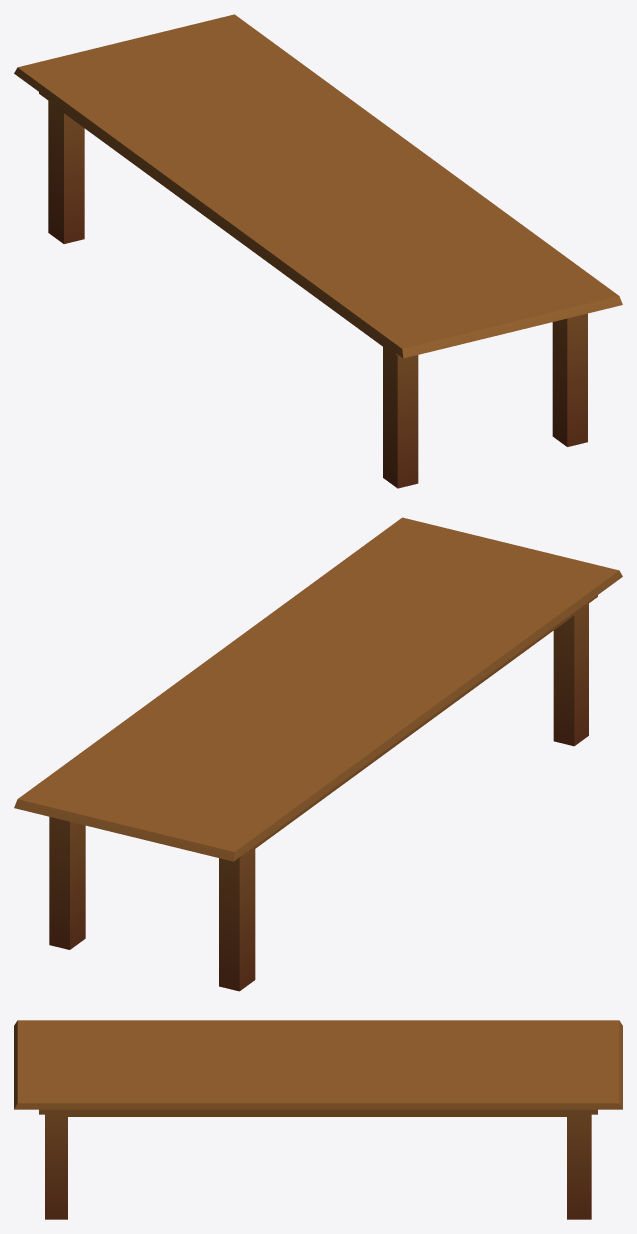
File: SM_Mesa.fbx
3 views of the same model, one above another, from view 1: azimuth 30°, elevation 25°; view 2: azimuth 150°, elevation 25°; view 3: azimuth 270°, elevation 25° (orthographic). The views are drawn at different scales.
Visible parts, largest first — view 1: Mesa; view 2: Mesa; view 3: Mesa.
Part boxes in pixels (bbox=[...]): Mesa: bbox=[14, 14, 622, 488]; Mesa: bbox=[14, 517, 622, 991]; Mesa: bbox=[14, 1020, 622, 1219].
Bounding box in the file's own units: 107 × 72.24 × 328.
